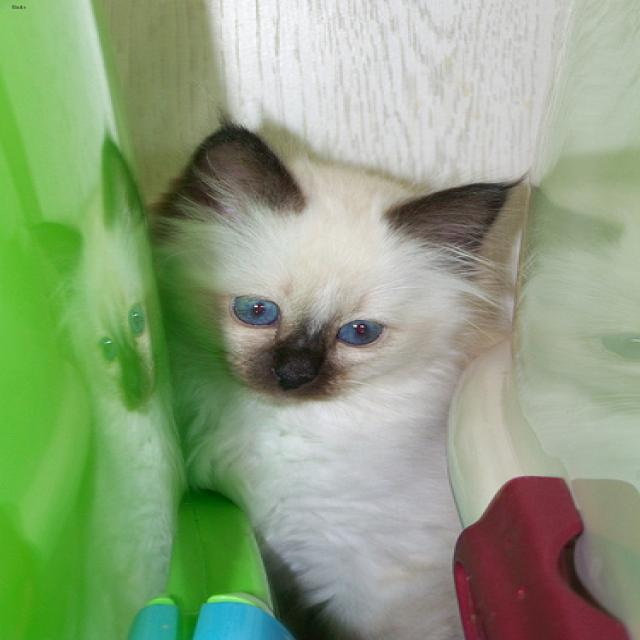Birman: (135, 121, 513, 412)
